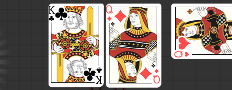9D: (153, 68, 161, 86)
KC: (94, 65, 103, 85)
